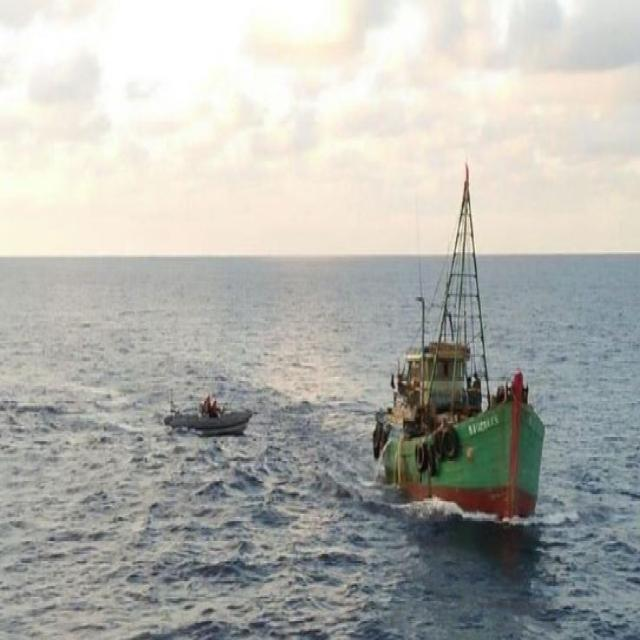Fishing Boat: (344, 208, 550, 556)
